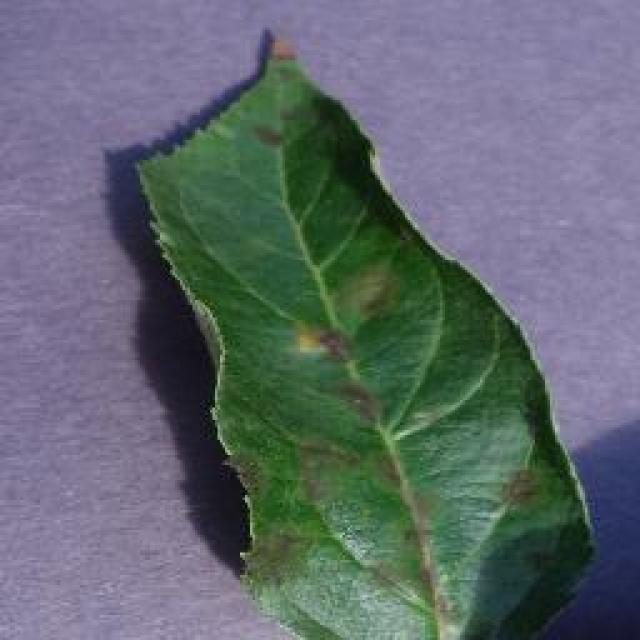apple scab disease: (130, 25, 598, 637)
